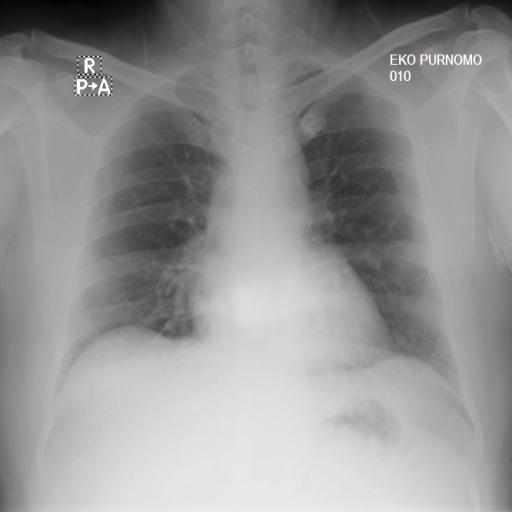kardiomegali: (36, 36, 479, 424)
